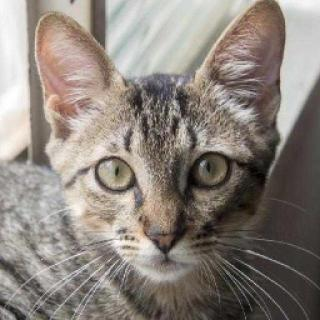cat: (32, 9, 290, 282)
nose: (136, 197, 192, 258)
